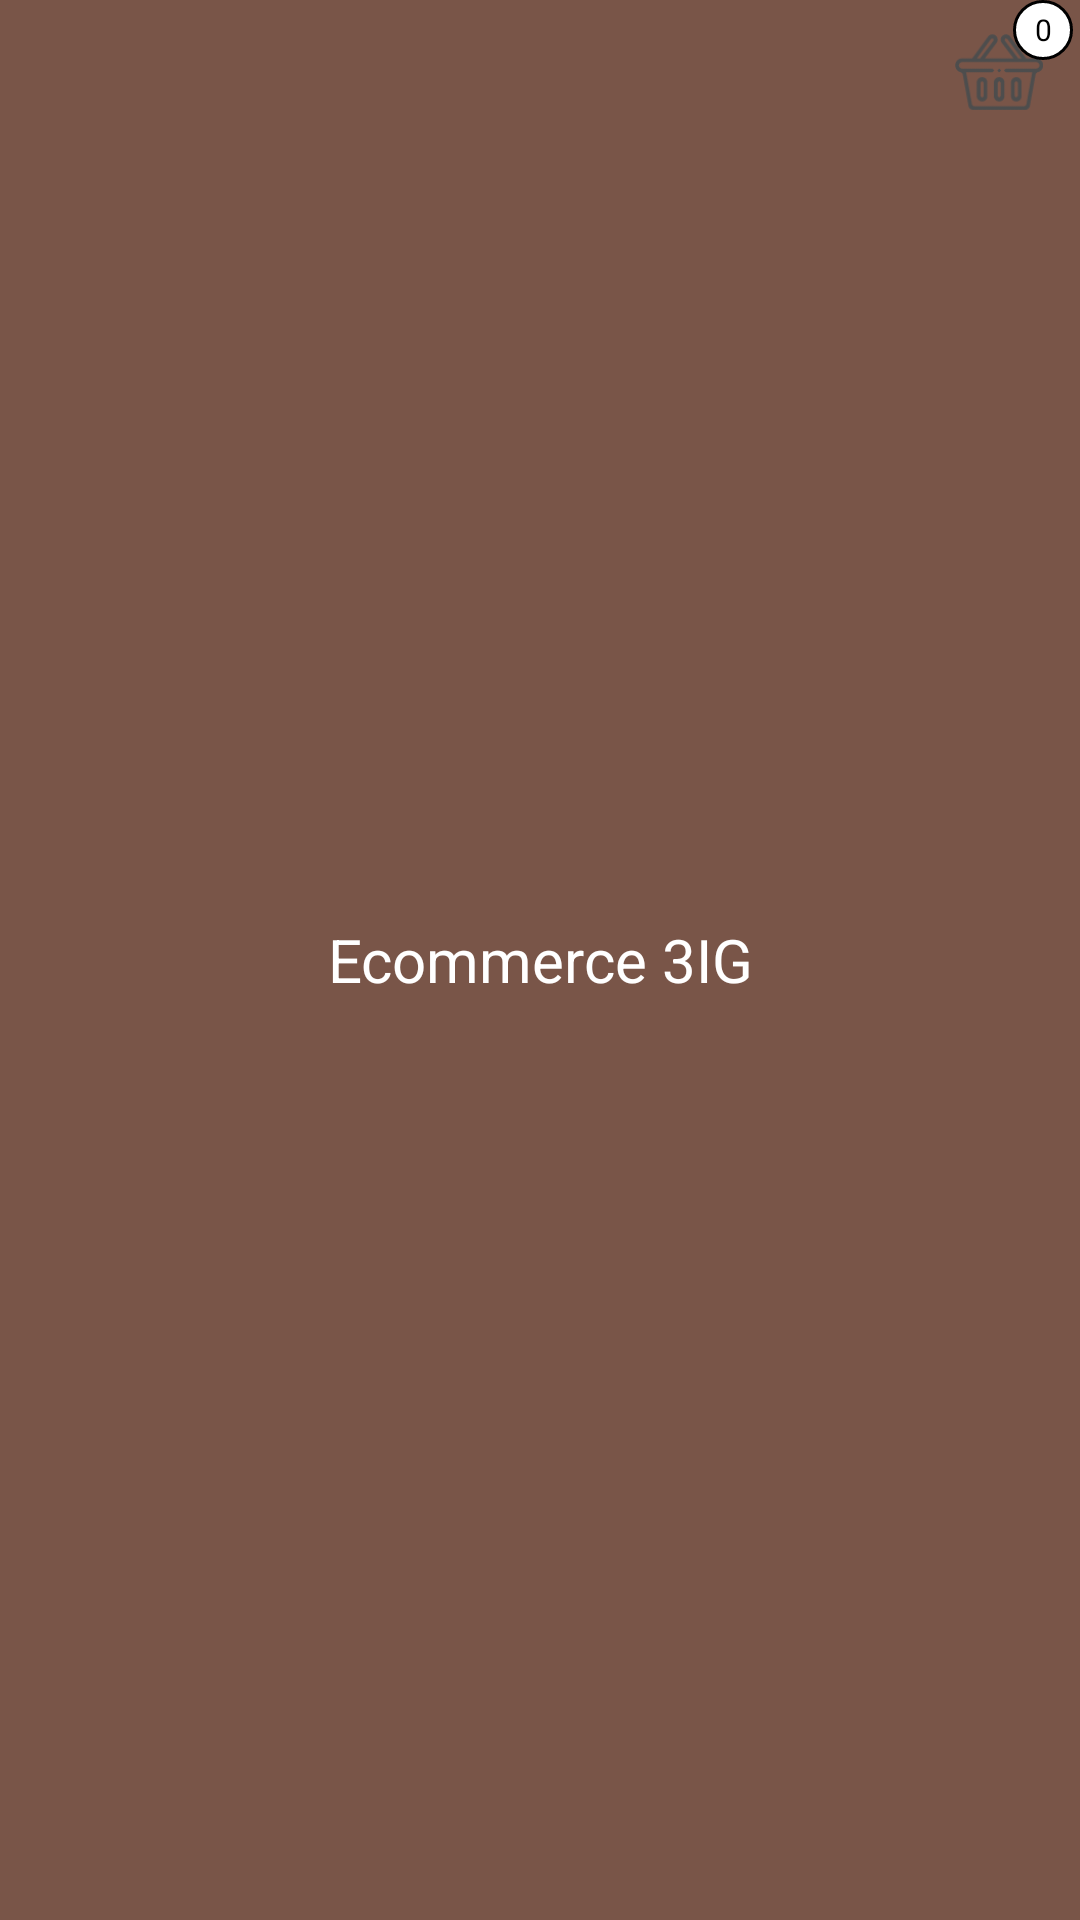

Icon bounding boxes for this 1080*1920 phone screenshot, format (x1, y1, x2, y2):
cart: (955, 27, 1044, 110)
